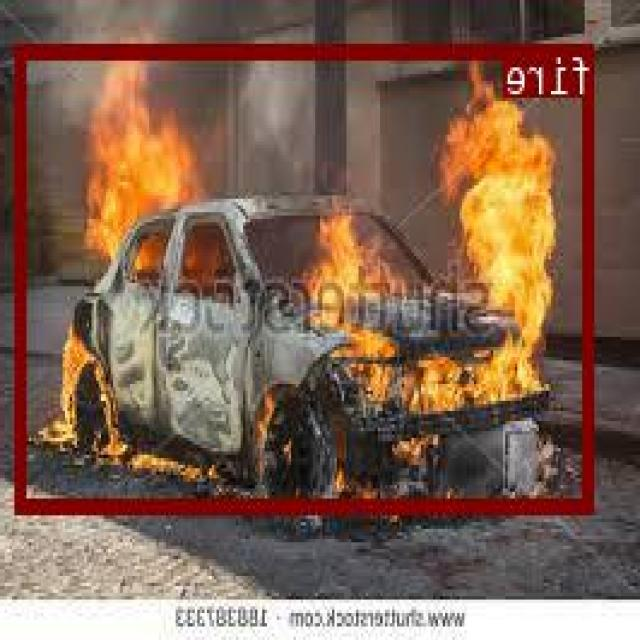fire: (17, 43, 596, 510)
